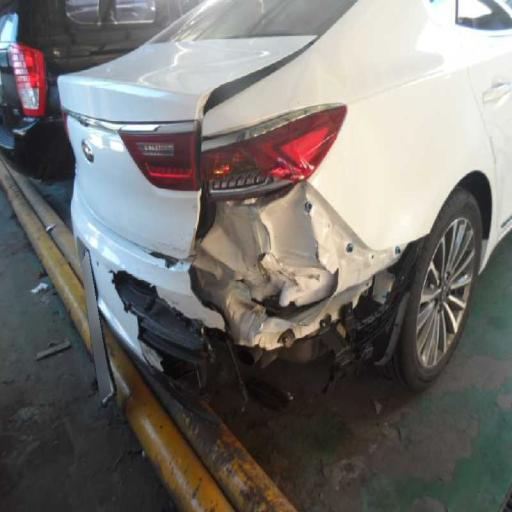broken: (98, 130, 460, 401)
